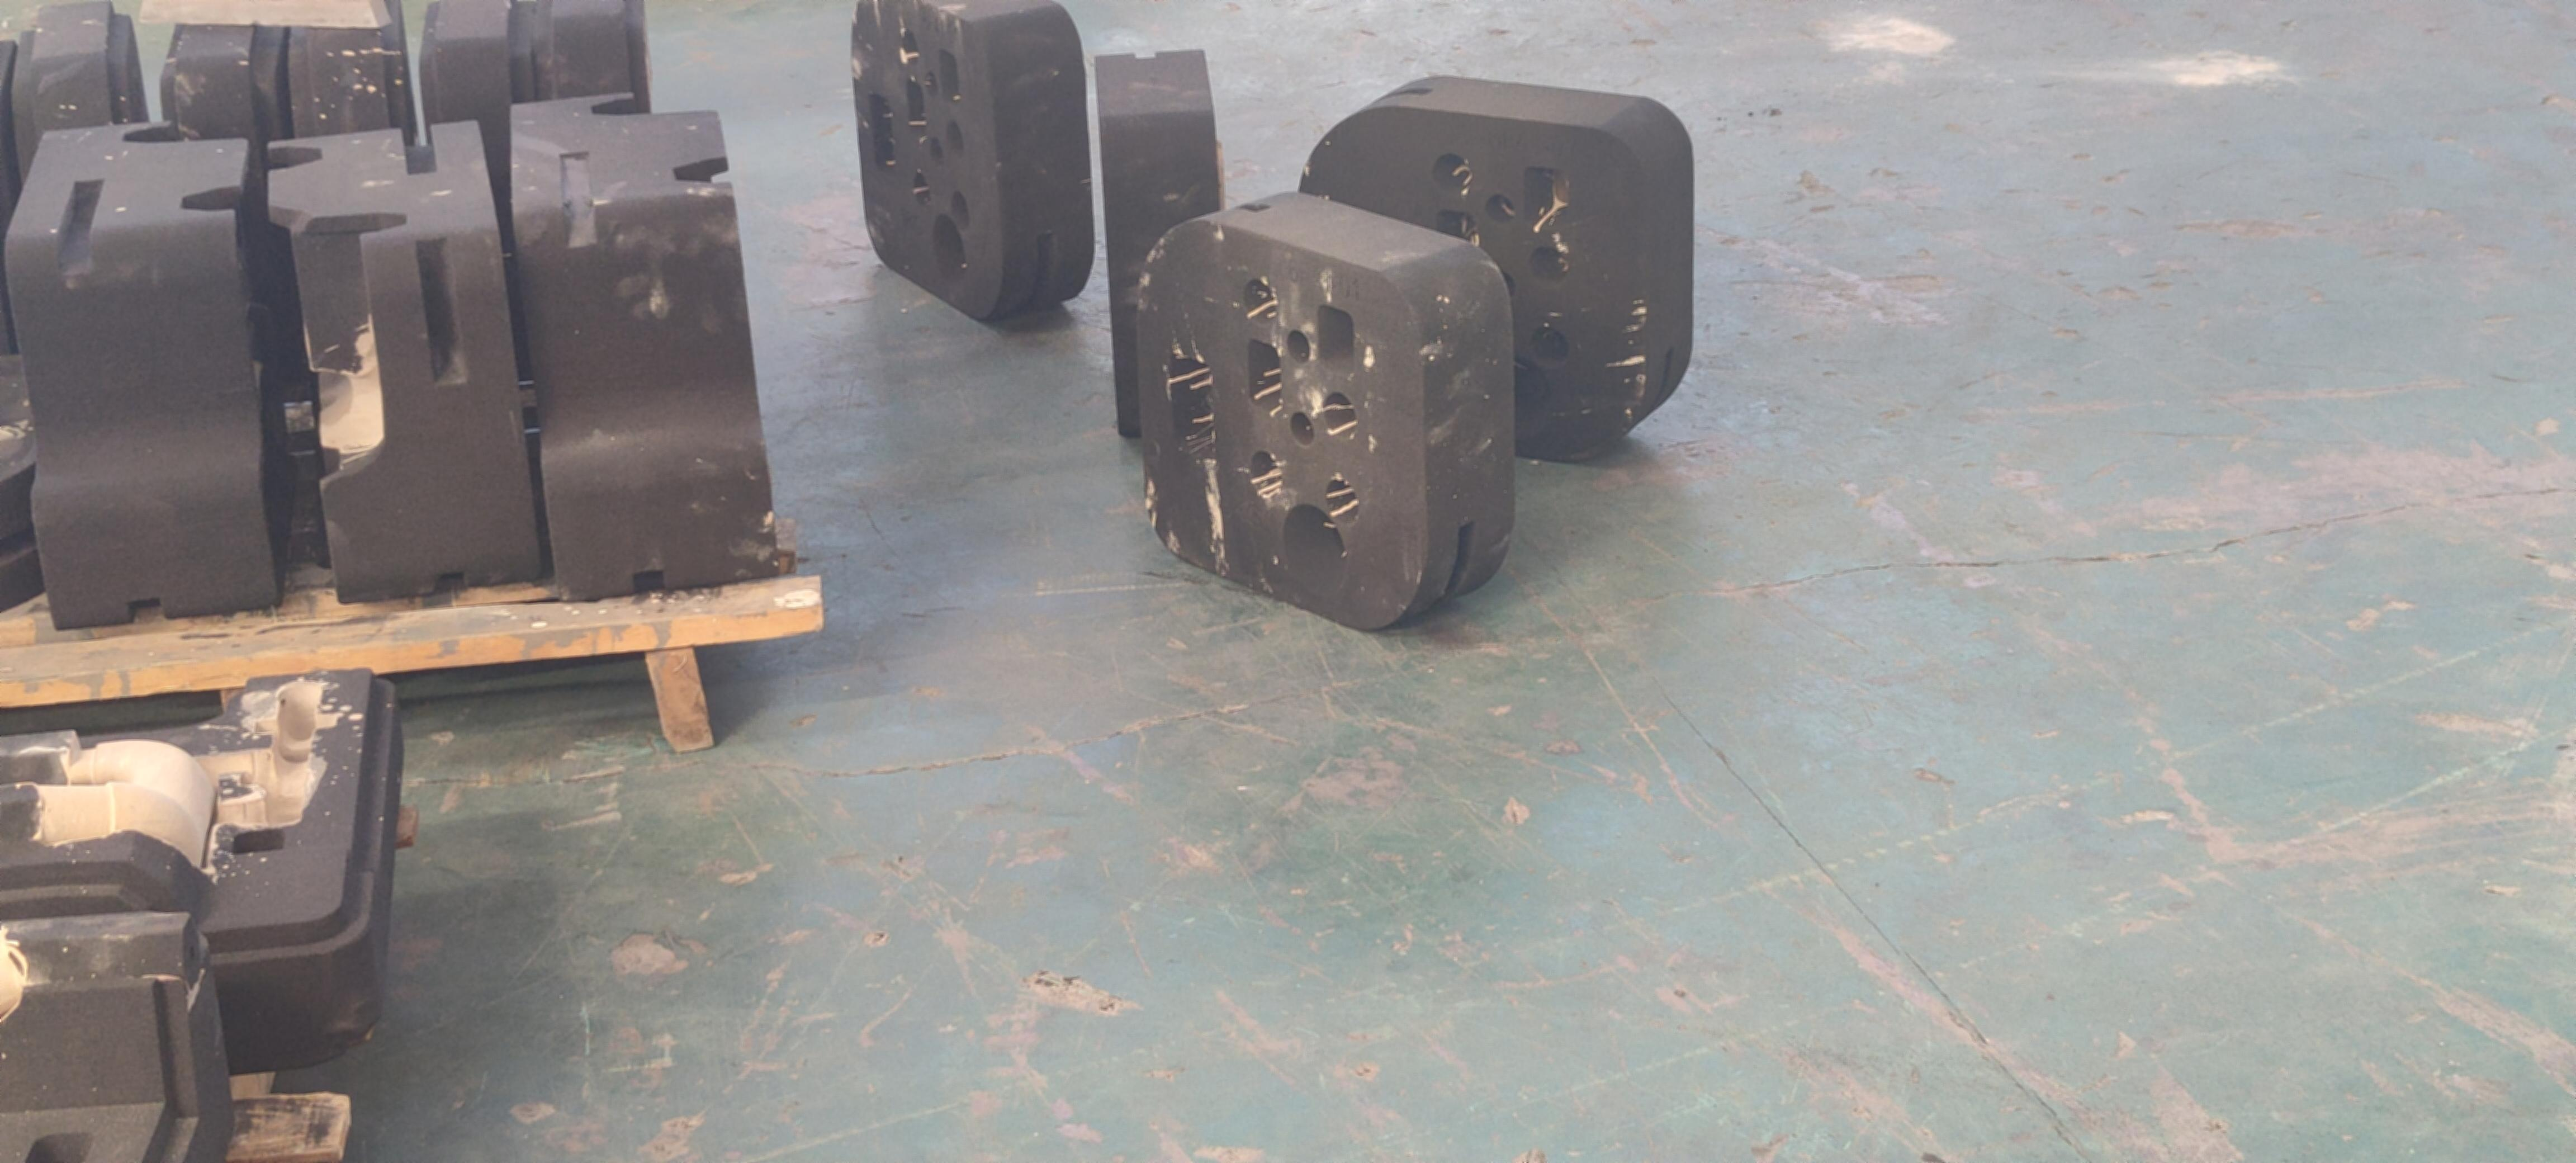pouring hole: (1479, 353, 1551, 437), (1281, 503, 1346, 590), (933, 214, 966, 283)
